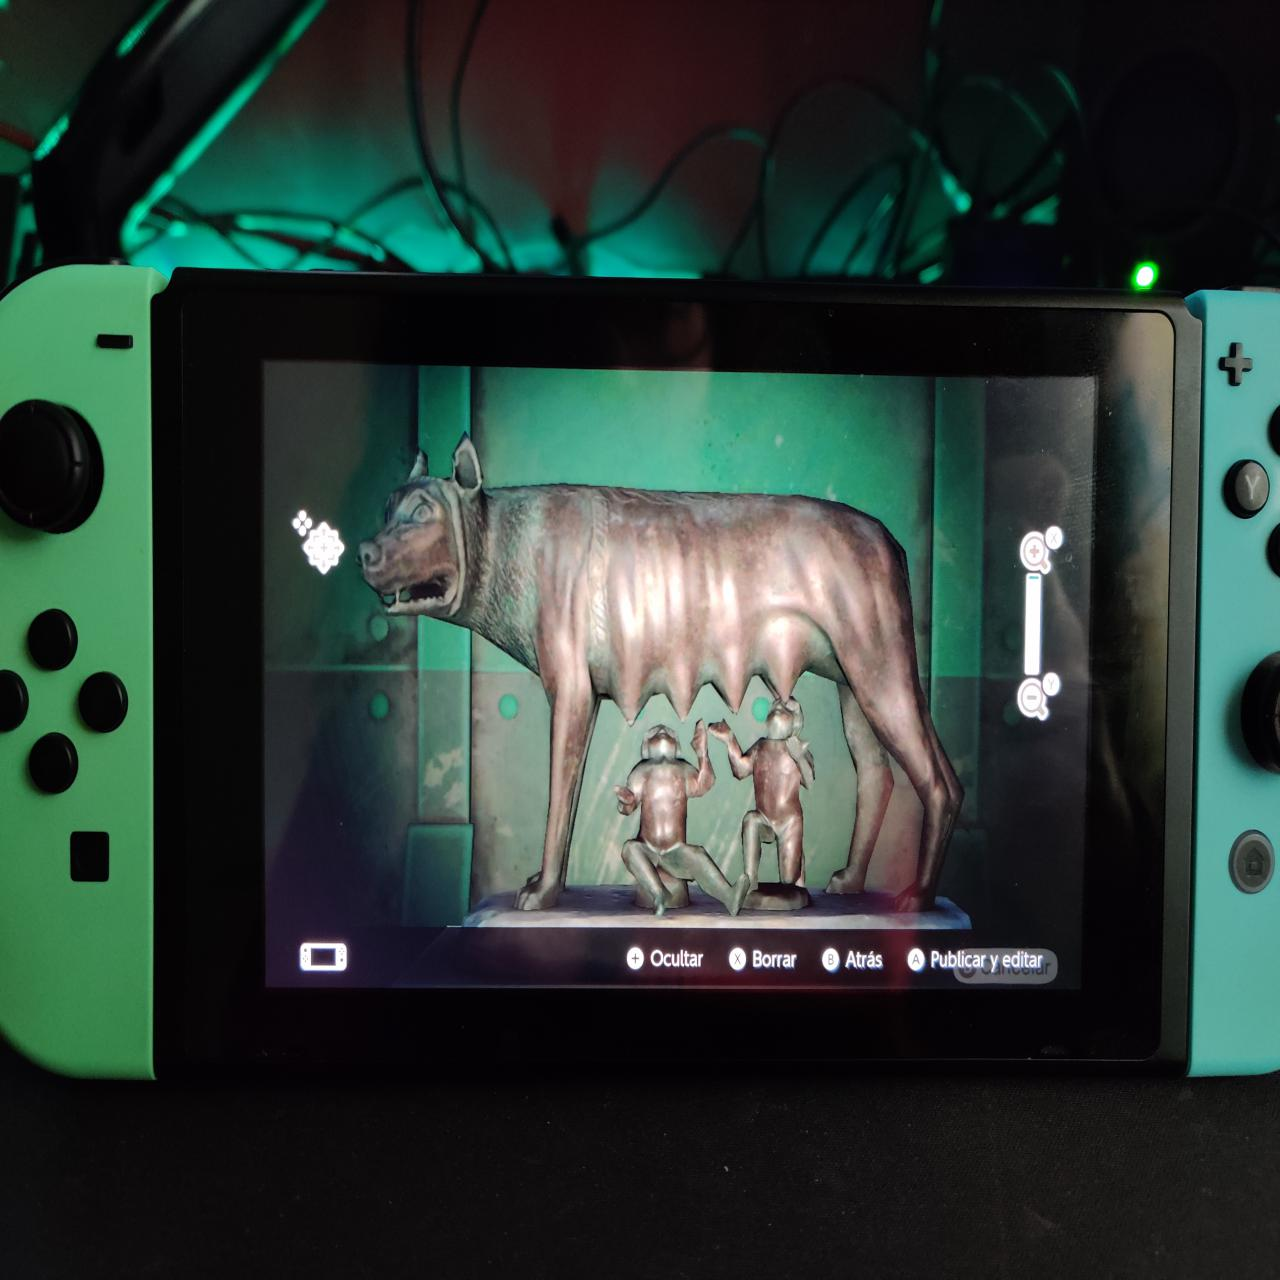Capitolini: (354, 435, 982, 937)
